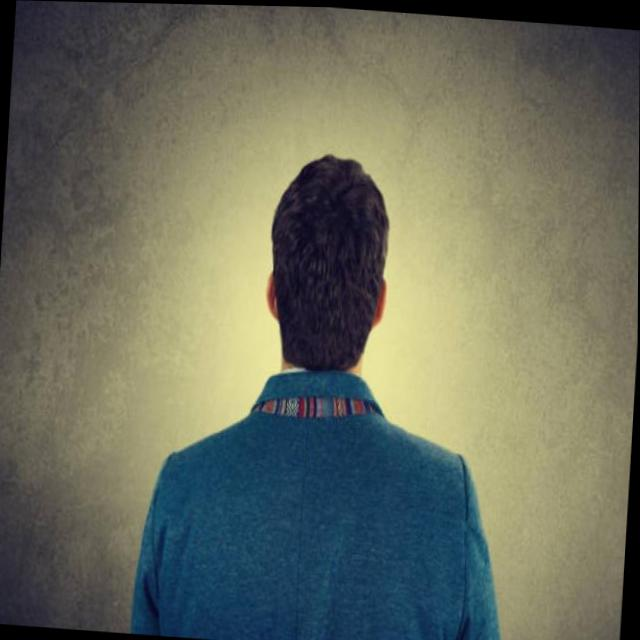no helmet: (248, 132, 409, 389)
